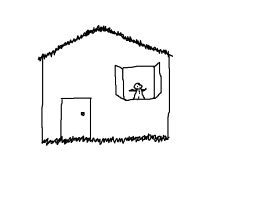door: (57, 94, 95, 144)
open_window: (115, 62, 161, 101)
single_line_roof: (38, 24, 171, 61)
wall: (38, 56, 173, 145)
